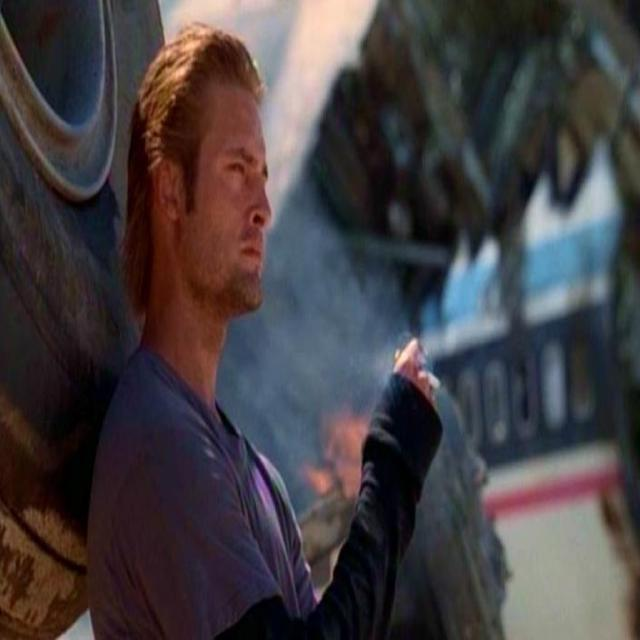smoking: (124, 12, 456, 465)
